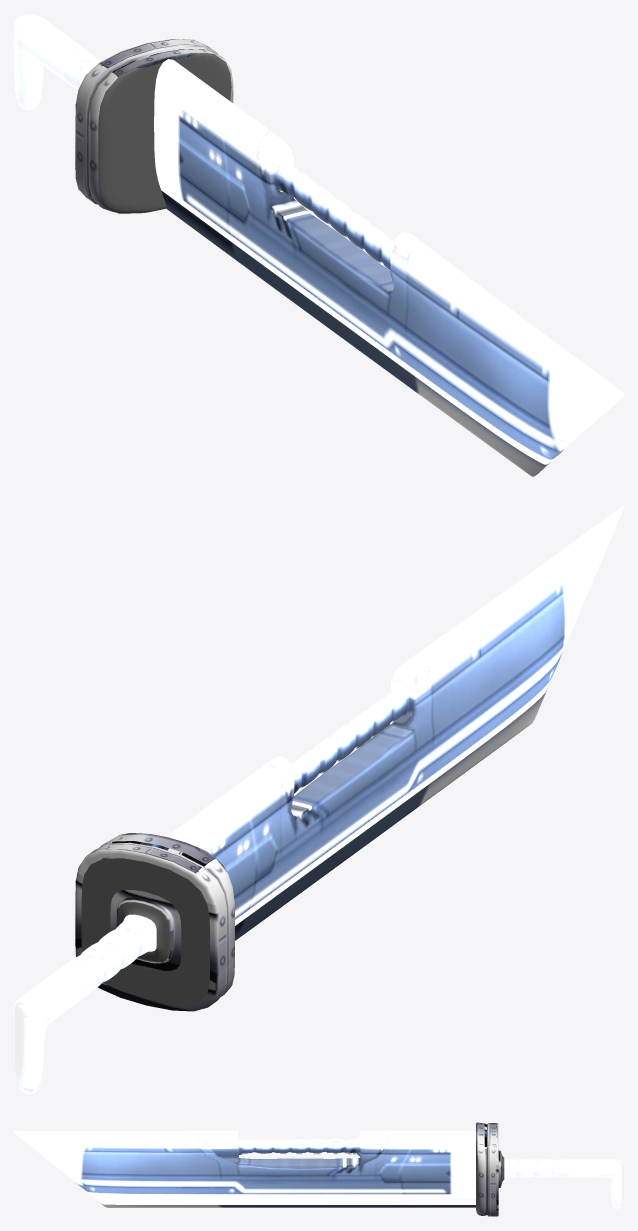
Rendered from weapon2.glb.
3 views of the same model, one above another, from view 1: azimuth 30°, elevation 25°; view 2: azimuth 150°, elevation 25°; view 3: azimuth 270°, elevation 25° (orthographic). The views are drawn at different scales.
Visible parts, largest first — view 1: Cube.001, Cube; view 2: Cube.001, Cube; view 3: Cube.001, Cube.
Boxes of the visible parts, x1,y1,x2,y2 form: Cube.001: (154, 59, 623, 476); Cube: (14, 14, 233, 213); Cube.001: (166, 505, 623, 940); Cube: (14, 833, 234, 1093); Cube.001: (14, 1130, 475, 1207); Cube: (476, 1122, 623, 1216).
Size of the model in its own units: 1.81 by 1.85 by 13.23.
3 materials, 2 textured.
